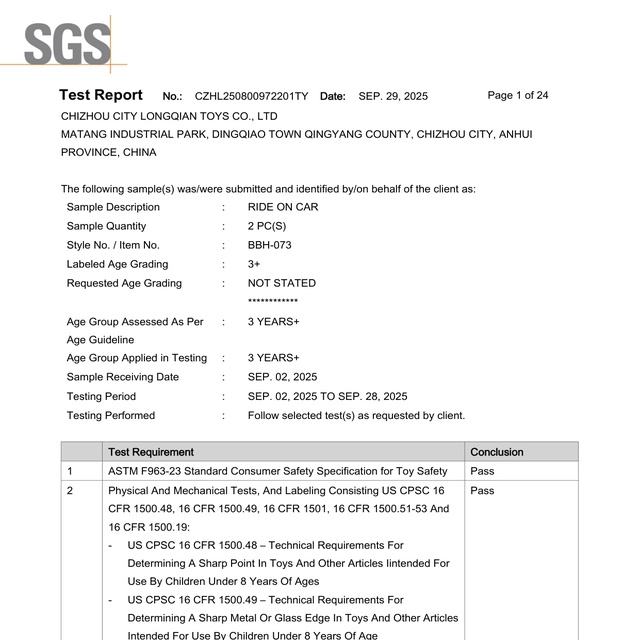sgs: (26, 21, 111, 65)
